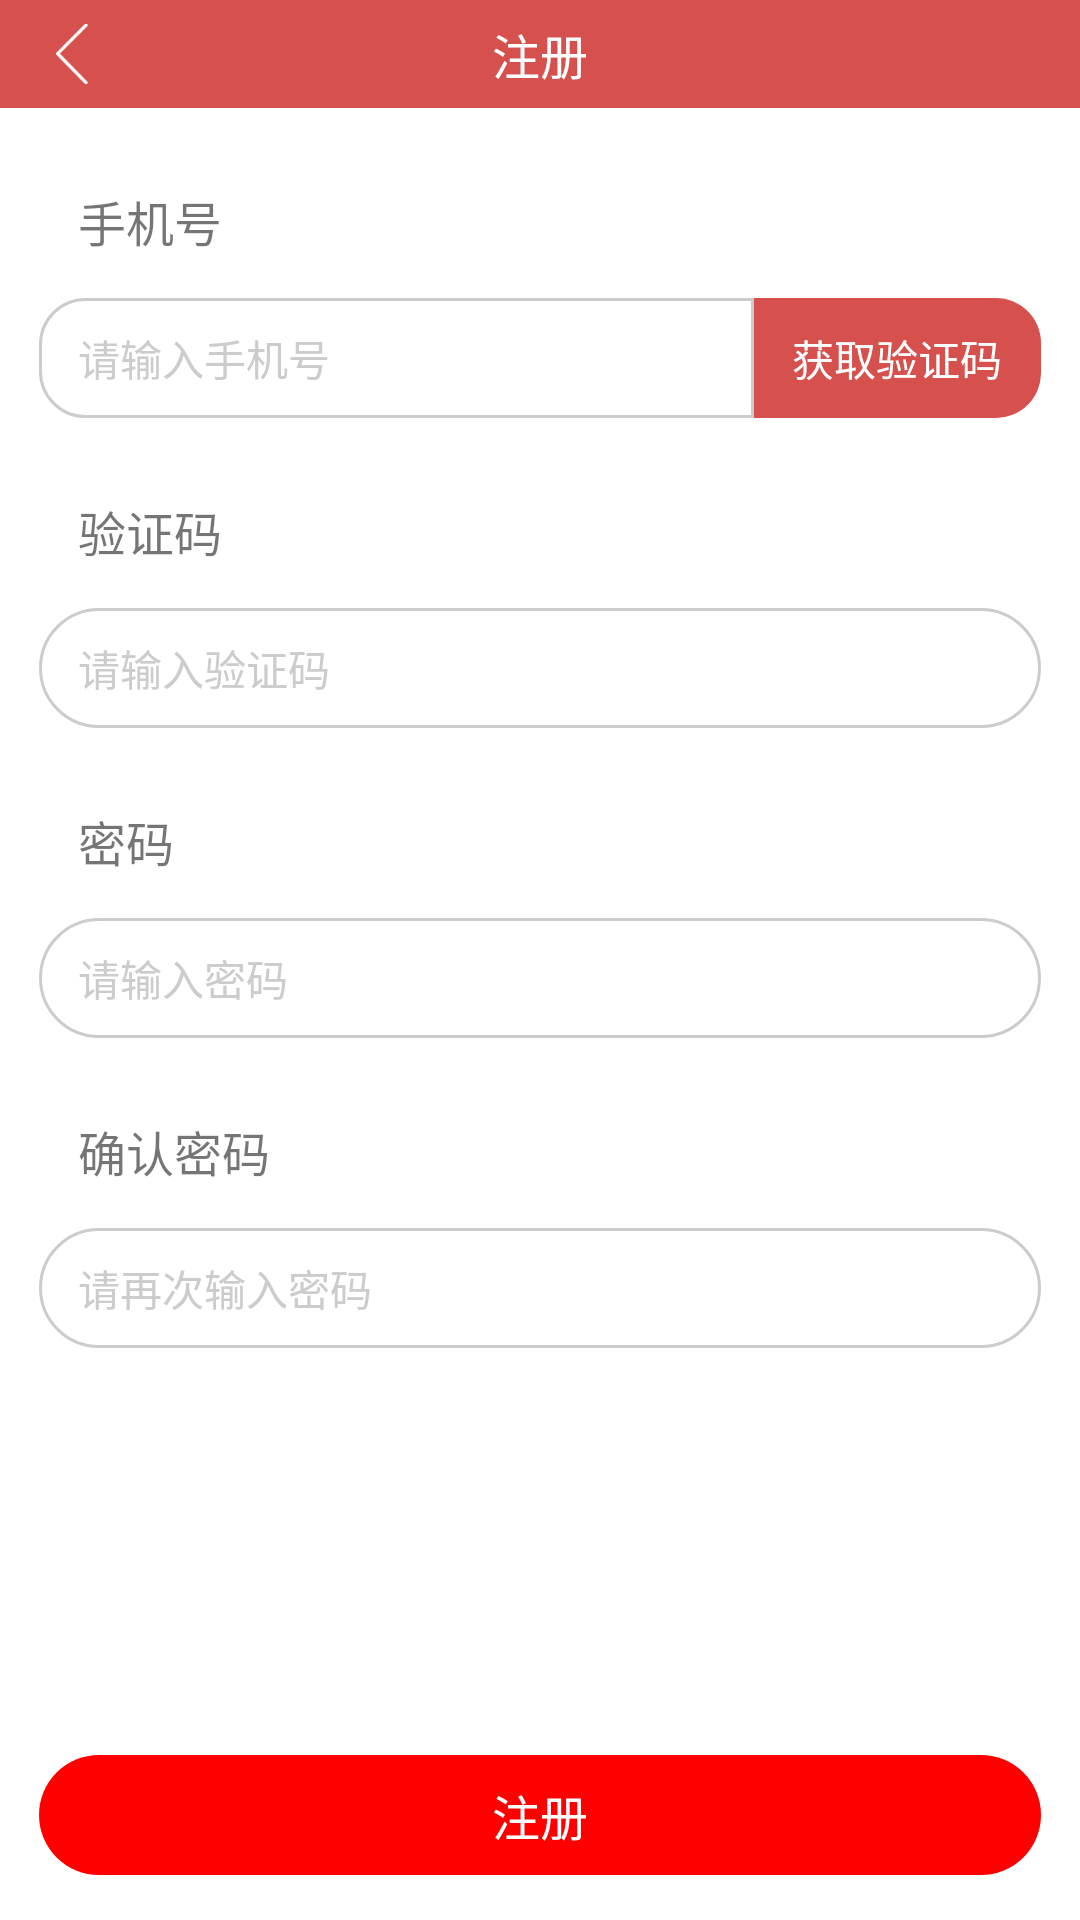

Screen size 1080px x 1920px. Icon name, then its center in pixels as (x,y):
detailback: (72,54)
